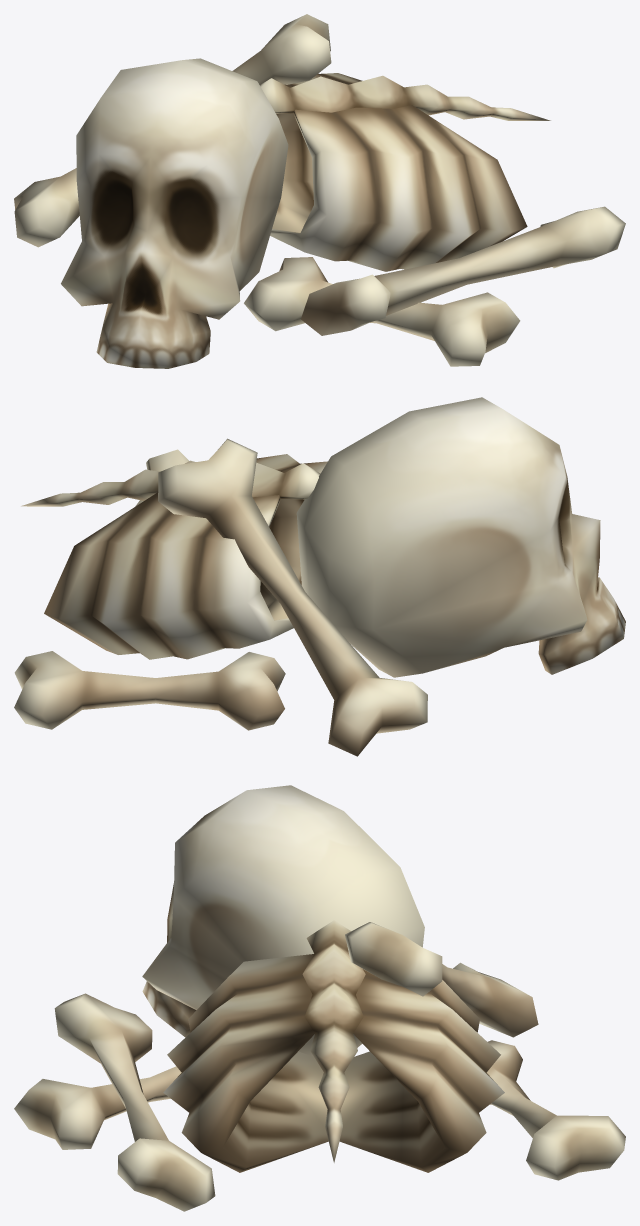
The model's file is skeleton_full_set.FBX.
3 views of the same model, one above another, from view 1: azimuth 30°, elevation 25°; view 2: azimuth 150°, elevation 25°; view 3: azimuth 270°, elevation 25° (orthographic). The views are drawn at different scales.
Visible parts, largest first — view 1: skull, bone_chest, bone003, bone002, bone; view 2: skull, bone_chest, bone, bone001, bone003; view 3: bone_chest, skull, bone003, bone, bone001, bone002.
Boxes of the visible parts, <box> form: skull: <box>61,58,288,368</box>; bone_chest: <box>260,73,550,271</box>; bone003: <box>301,206,625,335</box>; bone002: <box>244,257,520,366</box>; bone: <box>14,14,331,247</box>; skull: <box>296,397,625,677</box>; bone_chest: <box>21,454,327,659</box>; bone: <box>158,438,427,756</box>; bone001: <box>14,651,285,730</box>; bone003: <box>135,449,188,506</box>; bone_chest: <box>163,920,504,1172</box>; skull: <box>142,785,424,1056</box>; bone003: <box>54,993,215,1211</box>; bone: <box>345,922,538,1037</box>; bone001: <box>486,1040,625,1180</box>; bone002: <box>14,1066,181,1149</box>.
Size of the model in its own units: 10.79 by 4.86 by 11.08.
1 material, 1 textured.
